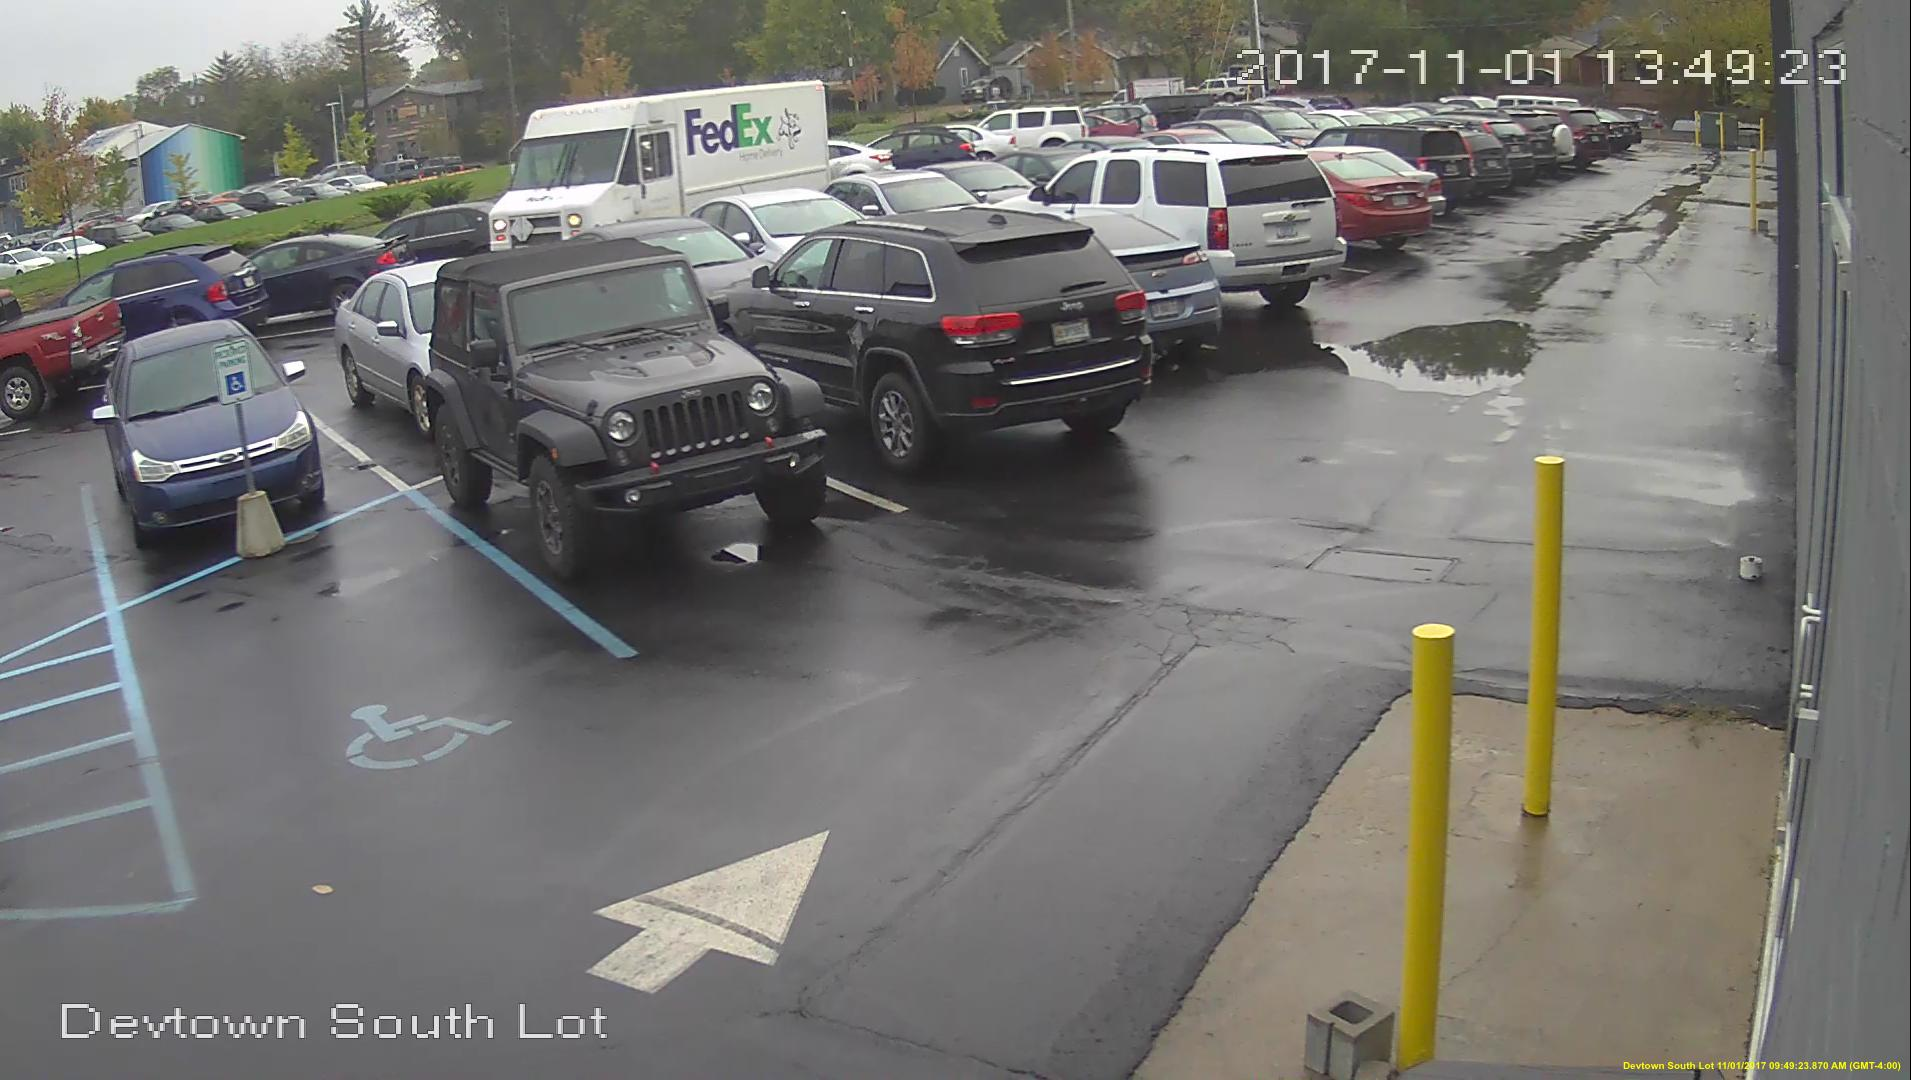fedex_truck: (500, 84, 824, 251)
